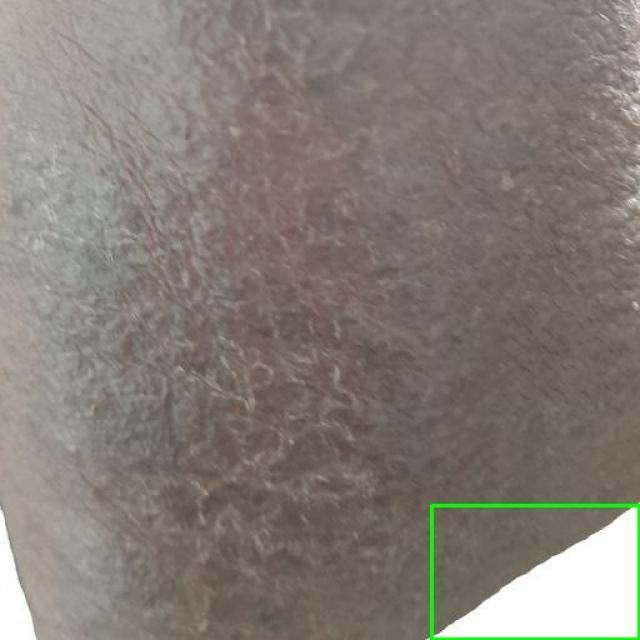Contact Dermatitis: (431, 505, 639, 639)
